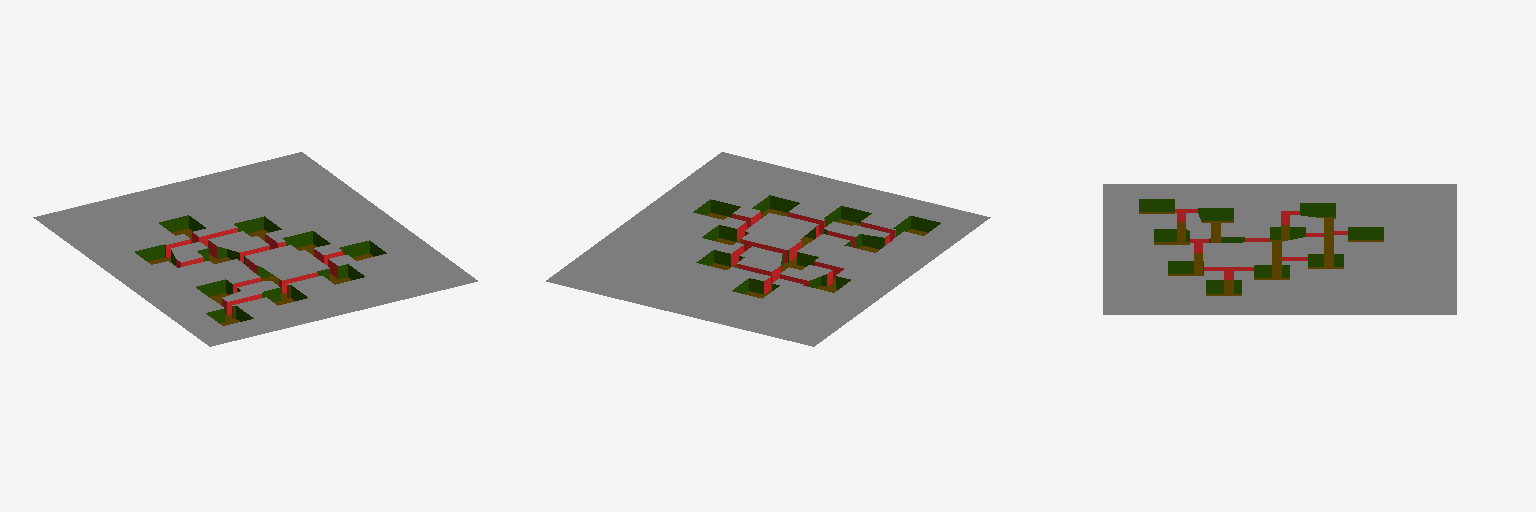
The model's file is LD38-world.obj.
3 views of the same model, side by side, from view 1: azimuth 30°, elevation 25°; view 2: azimuth 150°, elevation 25°; view 3: azimuth 270°, elevation 25° (orthographic).
Visible parts, largest first — view 1: Mesh1 Model; view 2: Mesh1 Model; view 3: Mesh1 Model.
Boxes of the visible parts, x1=… form: Mesh1 Model: x1=33, y1=152, x2=477, y2=346; Mesh1 Model: x1=546, y1=152, x2=990, y2=346; Mesh1 Model: x1=1103, y1=184, x2=1456, y2=314.
Size of the model in its own units: 43.21 by 2.02 by 49.23.